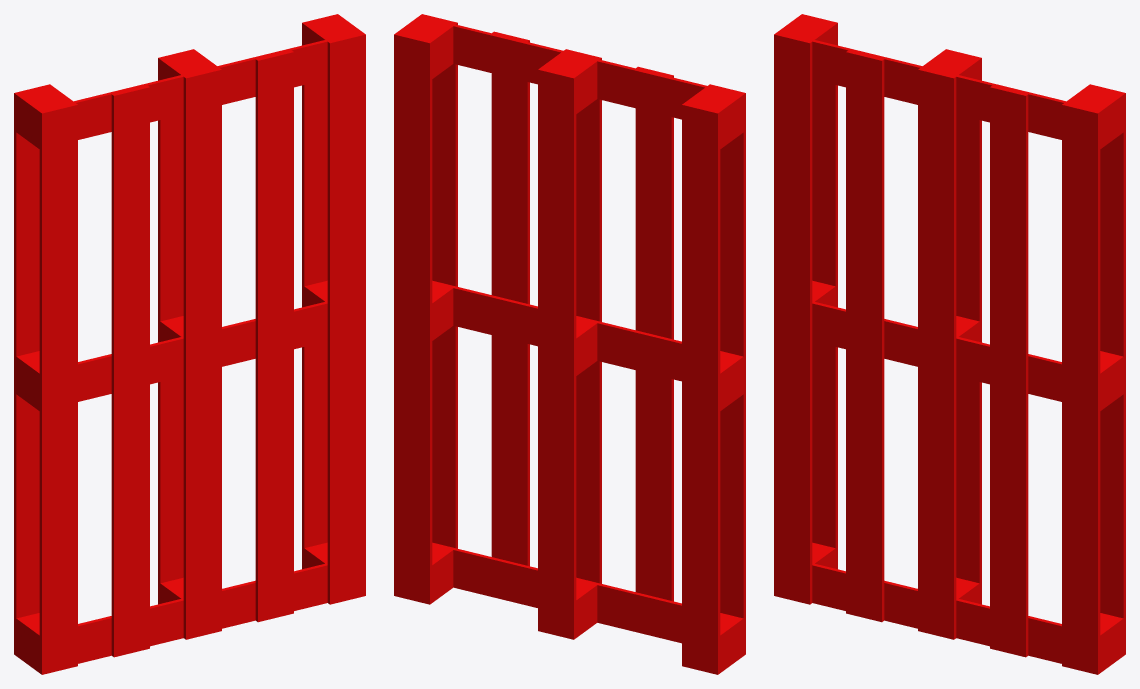
The model's file is palette rouge.glb.
The picture shows the model from 3 angles, left to right: view 1: azimuth 30°, elevation 25°; view 2: azimuth 150°, elevation 25°; view 3: azimuth 330°, elevation 25°; orthographic projection.
Visible parts, largest first — view 1: Part 1; view 2: Part 1; view 3: Part 1.
Part boxes in pixels (x1,y1,x2,y2): Part 1: (14, 14, 365, 674); Part 1: (394, 14, 745, 674); Part 1: (774, 14, 1125, 674).
Size of the model in its own units: 0.8 by 1.33 by 0.12.
